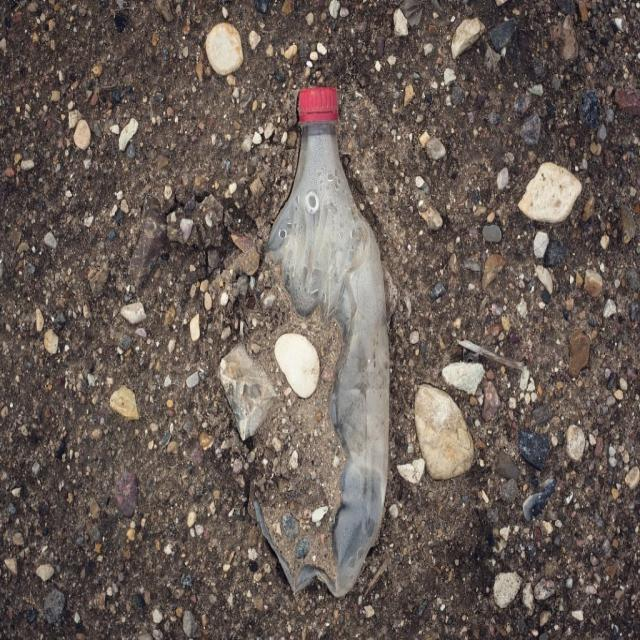plastic_bottle: (253, 85, 391, 597)
